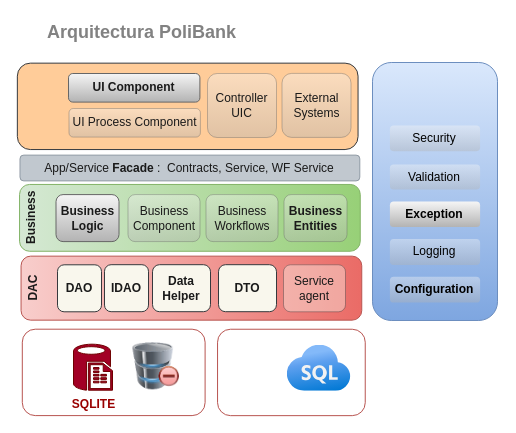
Some shapes in this 516 by 433 pixel diagram are drawn without their labels. The box of each missing label's shape, as (x1, y1, x2, y2) in pixels:
Data Service: (216, 328, 365, 416)
Data Sources: (21, 328, 205, 416)
Framework: (372, 62, 498, 320)
User Interface: (16, 62, 358, 150)
